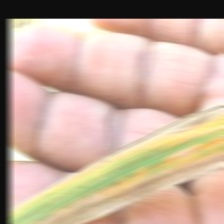Leaf_Blast: (54, 101, 224, 224)
